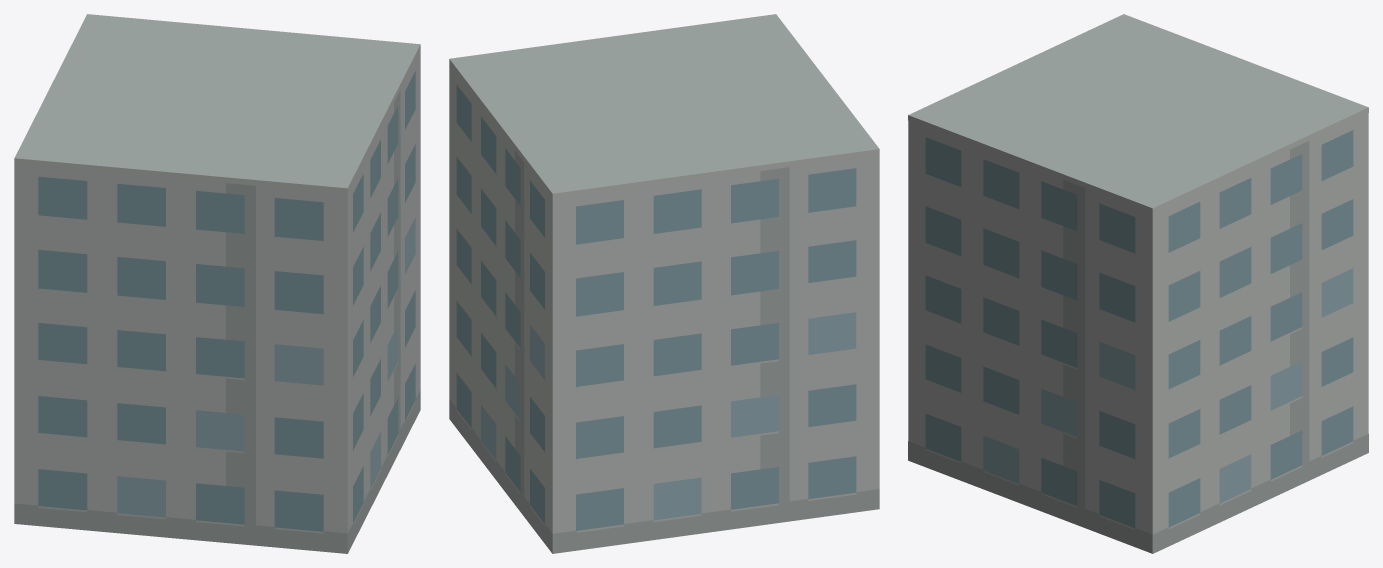
Rendered from residential-f3ca73fb-4db0-4ef4-9cdf-6e8537296f10.glb.
The picture shows the model from 3 angles, left to right: view 1: azimuth 30°, elevation 25°; view 2: azimuth 150°, elevation 25°; view 3: azimuth 270°, elevation 25°; orthographic projection. The views are drawn at different scales.
Visible parts, largest first — view 1: residential-f3ca73fb-4db0-4ef4-9cdf-6e8537296f10.tmp; view 2: residential-f3ca73fb-4db0-4ef4-9cdf-6e8537296f10.tmp; view 3: residential-f3ca73fb-4db0-4ef4-9cdf-6e8537296f10.tmp.
Boxes of the visible parts, <box> form: residential-f3ca73fb-4db0-4ef4-9cdf-6e8537296f10.tmp: <box>14,14,420,553</box>; residential-f3ca73fb-4db0-4ef4-9cdf-6e8537296f10.tmp: <box>449,14,879,553</box>; residential-f3ca73fb-4db0-4ef4-9cdf-6e8537296f10.tmp: <box>908,14,1368,553</box>.
Size of the model in its own units: 18.41 by 15.25 by 18.43.
